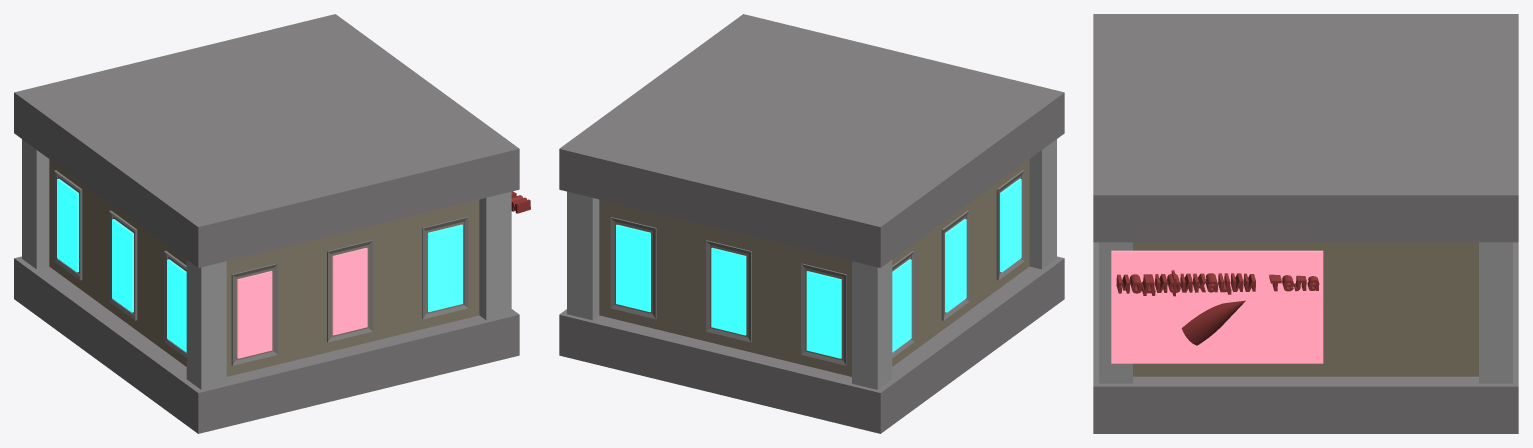
3 views of the same model, side by side, from view 1: azimuth 30°, elevation 25°; view 2: azimuth 150°, elevation 25°; view 3: azimuth 270°, elevation 25° (orthographic). The views are drawn at different scales.
Parts seen in each view (by area): view 1: Cube.002; view 2: Cube.002; view 3: Cube.002.
Boxes of the visible parts, box(x1,y1,x2,y2) form: Cube.002: box(14, 14, 530, 433); Cube.002: box(559, 14, 1064, 433); Cube.002: box(1093, 14, 1518, 433).
Size of the model in its own units: 14.2 by 8.16 by 13.17.
